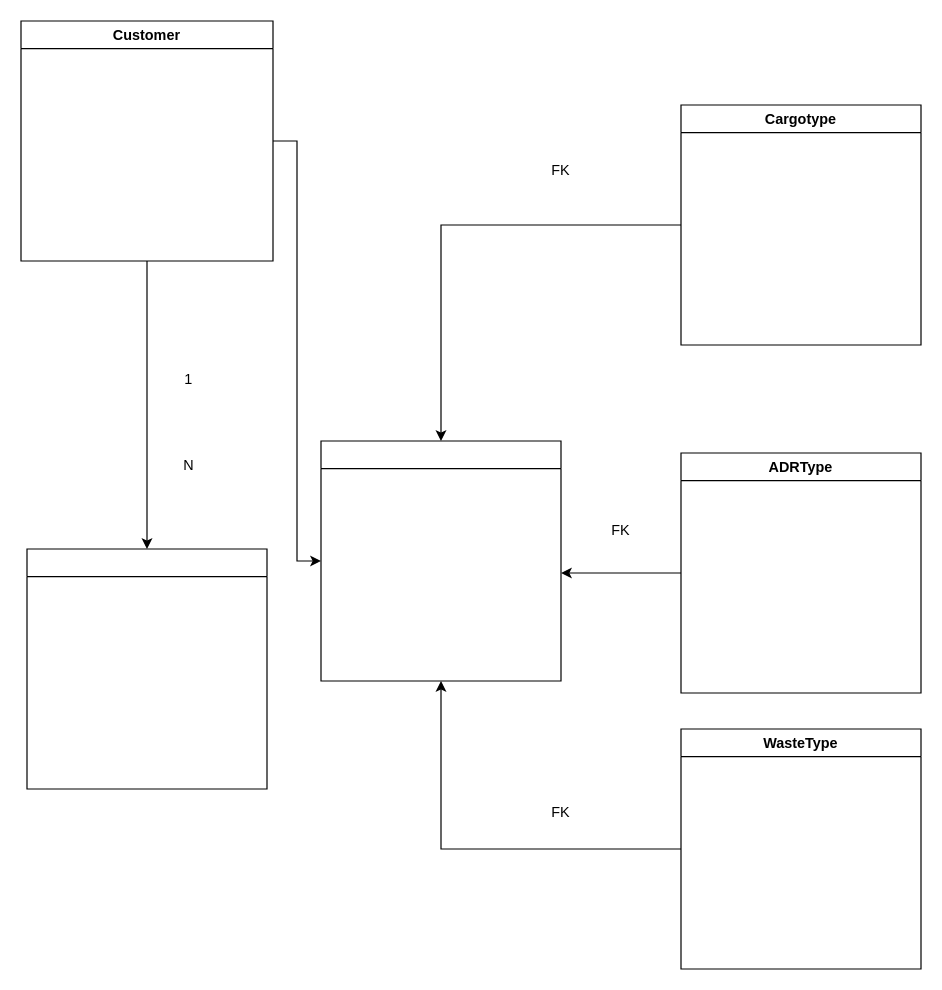
Image size: 942x990. Some labels were removed from this diagram. The centre of each missing label's shape, as x and y in pixels:
"Order" belongs at point 440,560.
"Profile" belongs at point 146,668.
